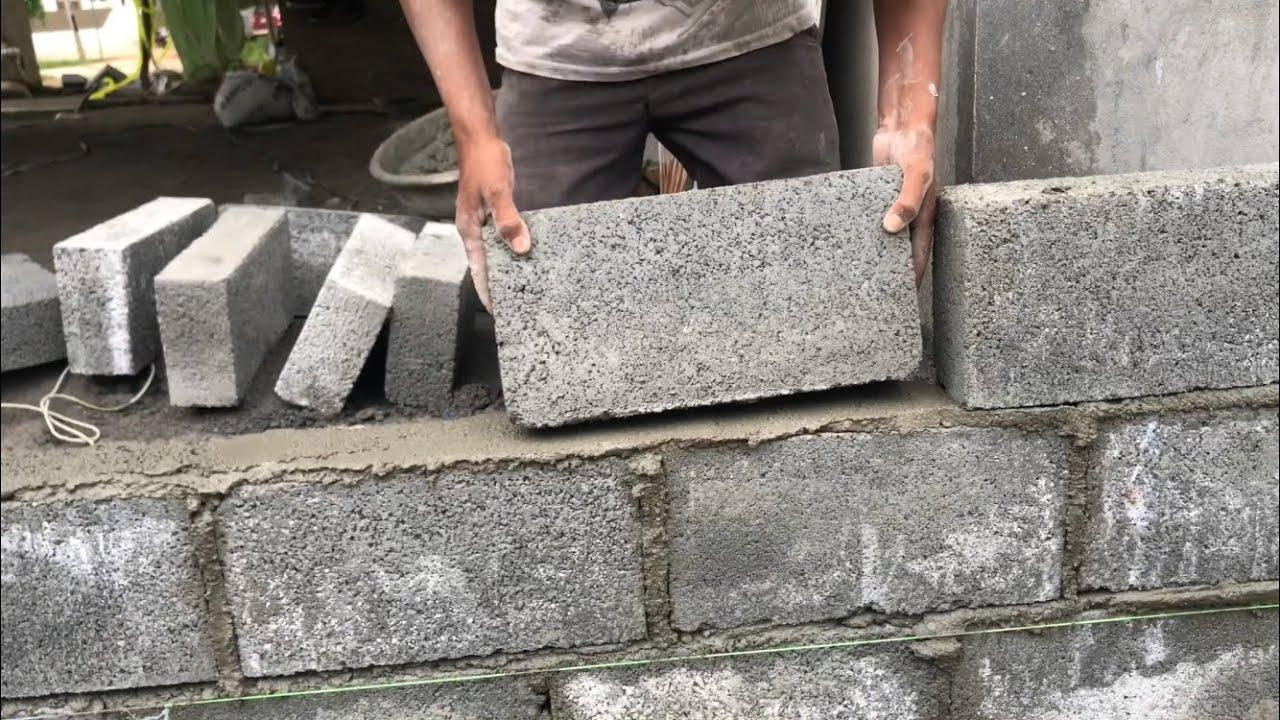brick: (482, 162, 922, 436), (218, 458, 648, 678), (666, 418, 1068, 632), (966, 172, 1280, 410), (4, 488, 214, 704), (1074, 394, 1280, 600), (956, 606, 1276, 714), (554, 636, 950, 714), (276, 270, 384, 420), (158, 274, 236, 412), (386, 270, 460, 412), (50, 242, 126, 378)
